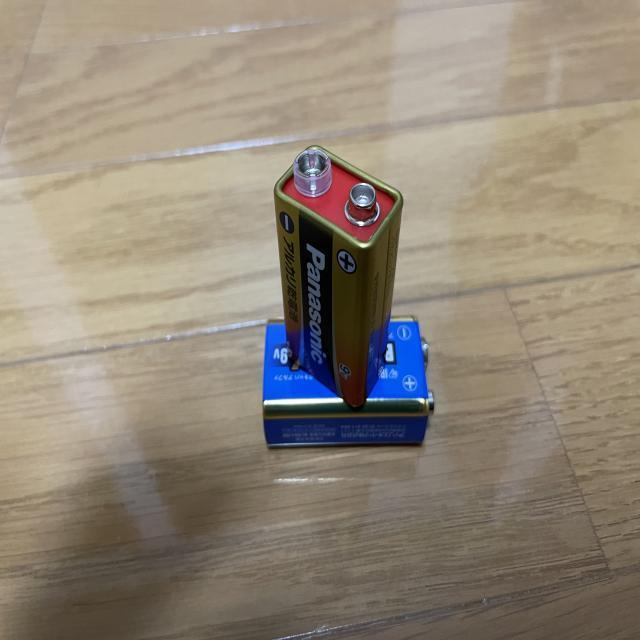9V: (272, 144, 404, 407), (261, 315, 437, 449)
